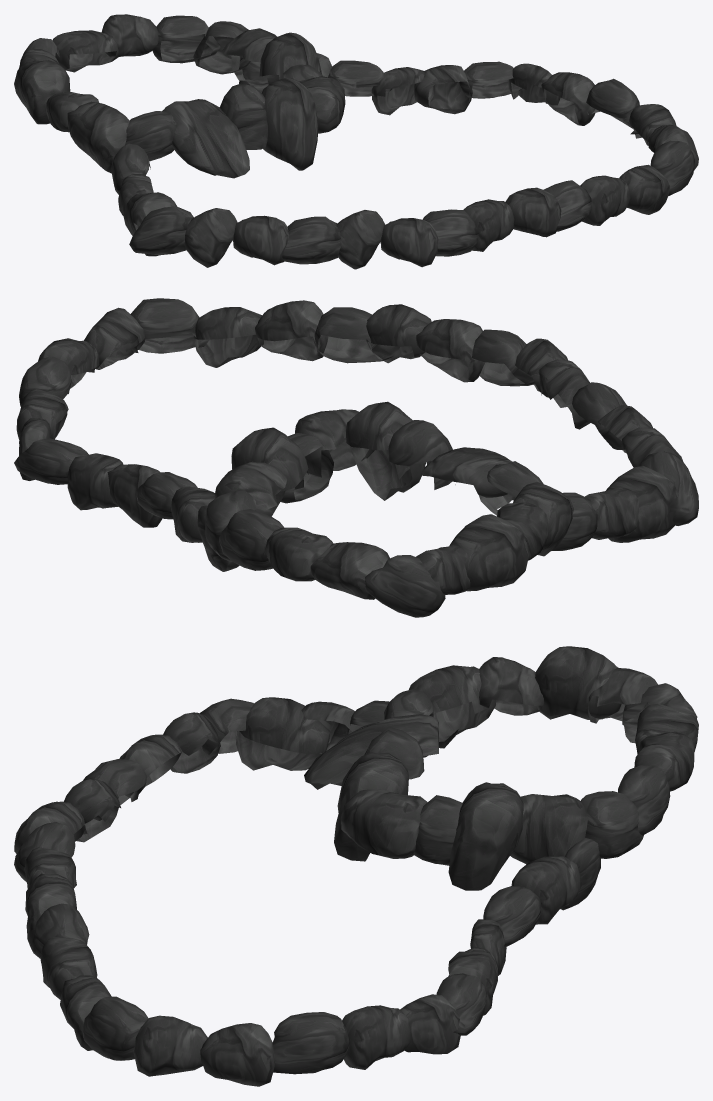
File: TIBorderStonesShape.dae
3 views of the same model, one above another, from view 1: azimuth 30°, elevation 25°; view 2: azimuth 150°, elevation 25°; view 3: azimuth 270°, elevation 25° (orthographic). The views are drawn at different scales.
Parts seen in each view (by area): view 1: TIBorderStones; view 2: TIBorderStones; view 3: TIBorderStones.
Part boxes in pixels (left/top/right/bottom): TIBorderStones: left=14, top=14, right=698, bottom=269; TIBorderStones: left=14, top=298, right=698, bottom=617; TIBorderStones: left=14, top=646, right=698, bottom=1086.
Bounding box in the file's own units: 119 × 23.47 × 104.
